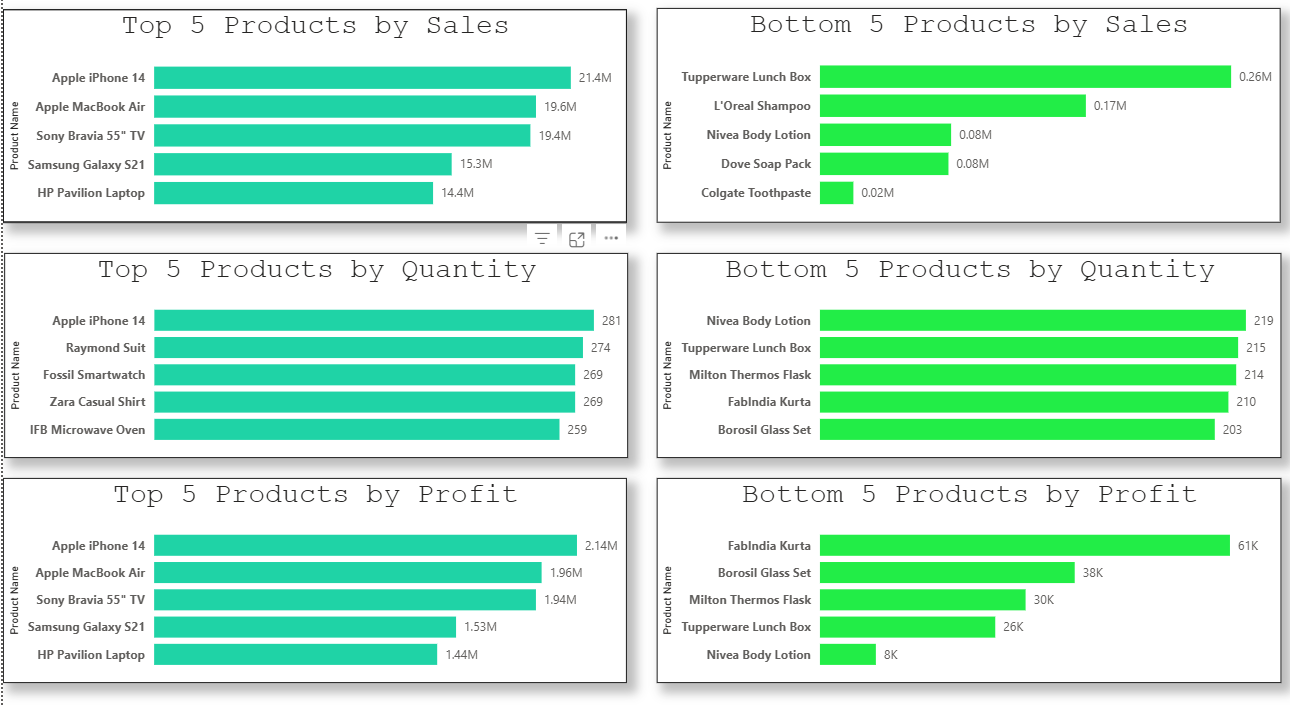

The page's visual inventory and layout, read from the dashboard file:
{"tool":"powerbi","page":{"name":"Top and Bottom 5","canvas":[1280,720],"ordinal":0},"visuals":[{"type":"barChart","title":"Top 5 Products by Sales","fields":{"Category":["Dim Product.Product Name"],"Y":["Sum(Fact Table.Net Sales)"]},"box":[0,21.1,620.7,212.7],"z":0},{"type":"barChart","title":"Bottom 5 Products by Sales","fields":{"Category":["Dim Product.Product Name"],"Y":["Sum(Fact Table.Net Sales)"]},"box":[650.6,19.9,620.7,214],"z":1000},{"type":"barChart","title":"Top 5 Products by Quantity","fields":{"Category":["Dim Product.Product Name"],"Y":["Sum(Fact Table.Units Sold)"]},"box":[1.2,263.7,620.7,204],"z":2000},{"type":"barChart","title":"Bottom 5 Products by Quantity","fields":{"Category":["Dim Product.Product Name"],"Y":["Sum(Fact Table.Units Sold)"]},"box":[650.6,263.7,622,204],"z":3000},{"type":"barChart","title":"Top 5 Products by Profit","fields":{"Category":["Dim Product.Product Name"],"Y":["Sum(Fact Table.Profit)"]},"box":[0,487.6,620.7,204],"z":4000},{"type":"barChart","title":"Bottom 5 Products by Profit","fields":{"Category":["Dim Product.Product Name"],"Y":["Sum(Fact Table.Profit)"]},"box":[650.6,487.6,622,204],"z":5000}]}

Visuals, with their boxes in screenshot pixels (x1, y1, x2, y2), scaled from the page's 1280x720 canvas onto the 1290x705 screenshot:
"Top 5 Products by Sales" barChart: (x1=0, y1=21, x2=626, y2=229)
"Bottom 5 Products by Sales" barChart: (x1=656, y1=19, x2=1281, y2=229)
"Top 5 Products by Quantity" barChart: (x1=1, y1=258, x2=627, y2=458)
"Bottom 5 Products by Quantity" barChart: (x1=656, y1=258, x2=1283, y2=458)
"Top 5 Products by Profit" barChart: (x1=0, y1=477, x2=626, y2=677)
"Bottom 5 Products by Profit" barChart: (x1=656, y1=477, x2=1283, y2=677)
